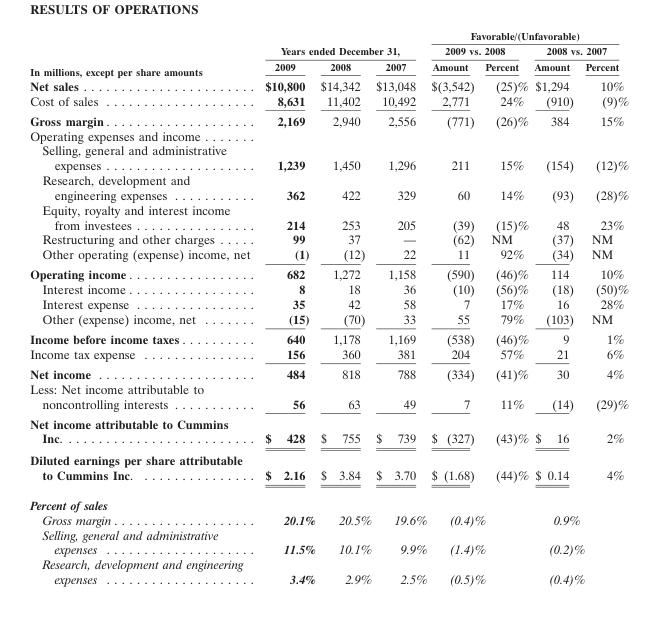table: (29, 28, 628, 586)
table column: (29, 28, 257, 586), (257, 28, 317, 586), (317, 28, 373, 586), (428, 28, 484, 586), (373, 28, 428, 586), (530, 28, 584, 586), (484, 28, 530, 586), (584, 28, 628, 586)
table column header: (29, 28, 628, 77)
table projected row header: (29, 489, 628, 511), (29, 127, 628, 142)
table row: (29, 449, 628, 489), (29, 413, 628, 449), (29, 380, 628, 413), (29, 142, 628, 172), (29, 201, 628, 231), (29, 526, 628, 556), (29, 556, 628, 586), (29, 172, 628, 201), (29, 489, 628, 511), (29, 58, 628, 77), (29, 92, 628, 110), (29, 263, 628, 281), (29, 328, 628, 346), (29, 110, 628, 127), (29, 246, 628, 263), (29, 311, 628, 328), (29, 346, 628, 363), (29, 363, 628, 380), (29, 42, 628, 58), (29, 77, 628, 92), (29, 127, 628, 142), (29, 231, 628, 246), (29, 281, 628, 296), (29, 296, 628, 311), (29, 511, 628, 526), (29, 28, 628, 42)
table spanning cell: (29, 28, 257, 77), (257, 28, 428, 58), (428, 28, 628, 42), (428, 42, 530, 58), (530, 42, 628, 58)
